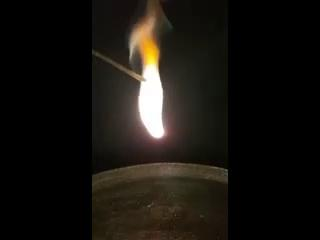Fire: (134, 22, 167, 140)
